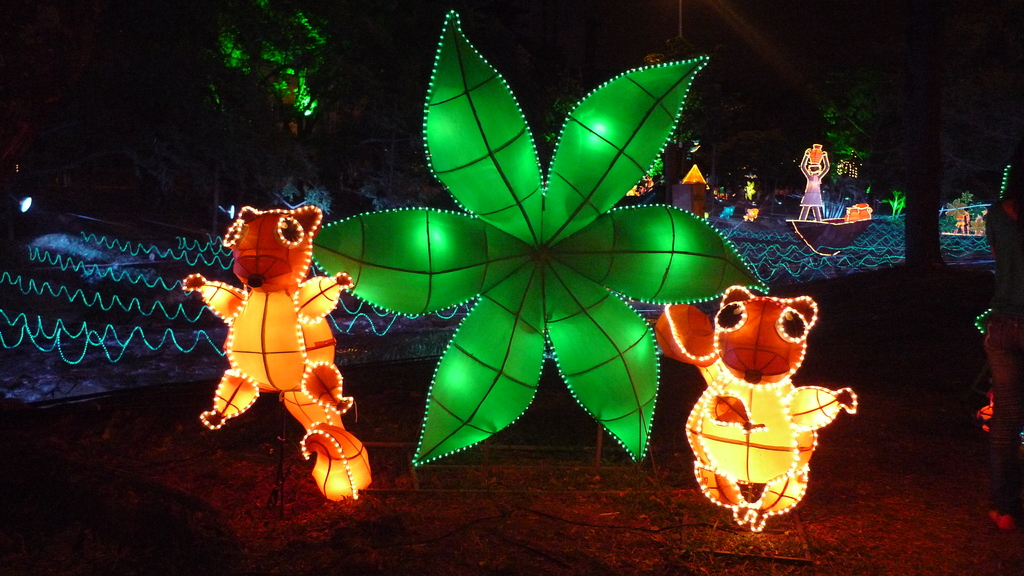Person: (981, 146, 1023, 531), (800, 146, 830, 218)
